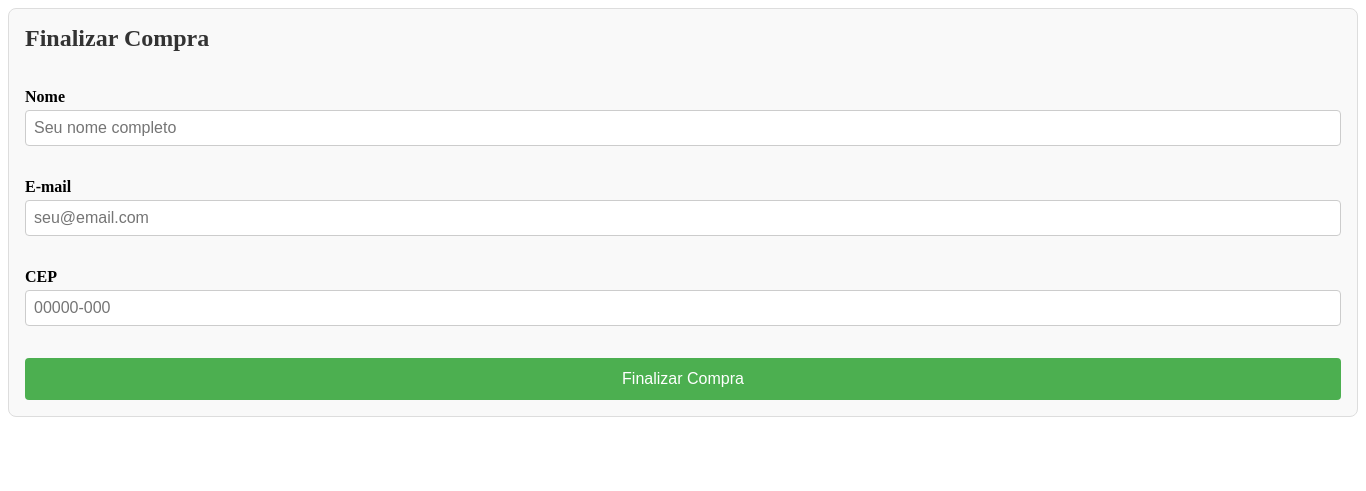
Test case: CheckoutForm › exibe erro quando o e-mail é inválido
Type "nao-é-email" into the field labelled "E-mail". click: (683, 218)
box: 25,200 -> 1341,236
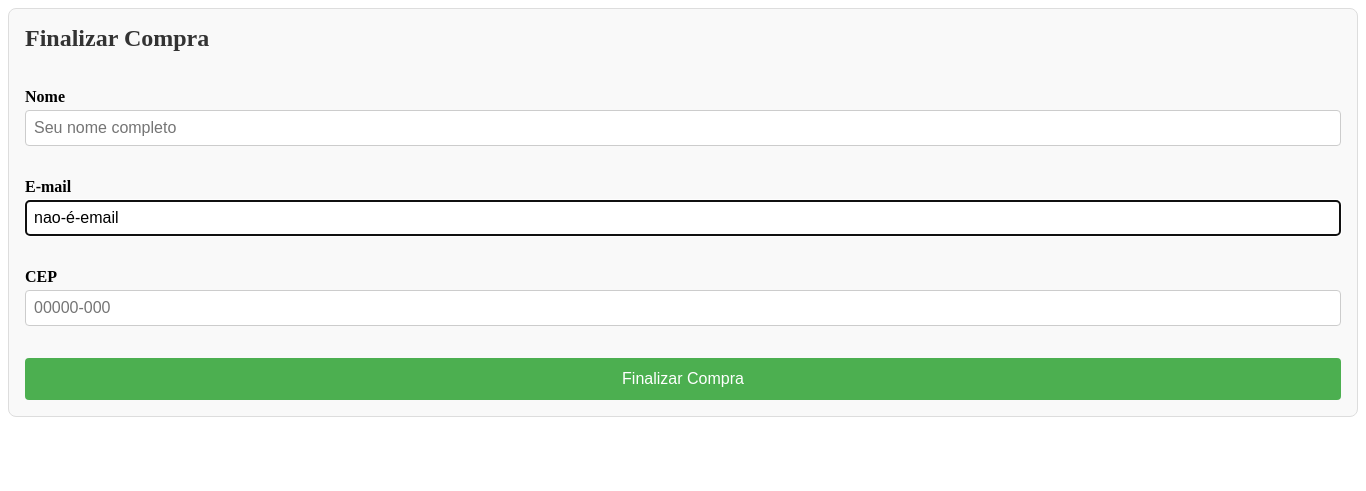
Click the button "Finalizar Compra". click: (683, 379)
box: 25,358 -> 1341,400
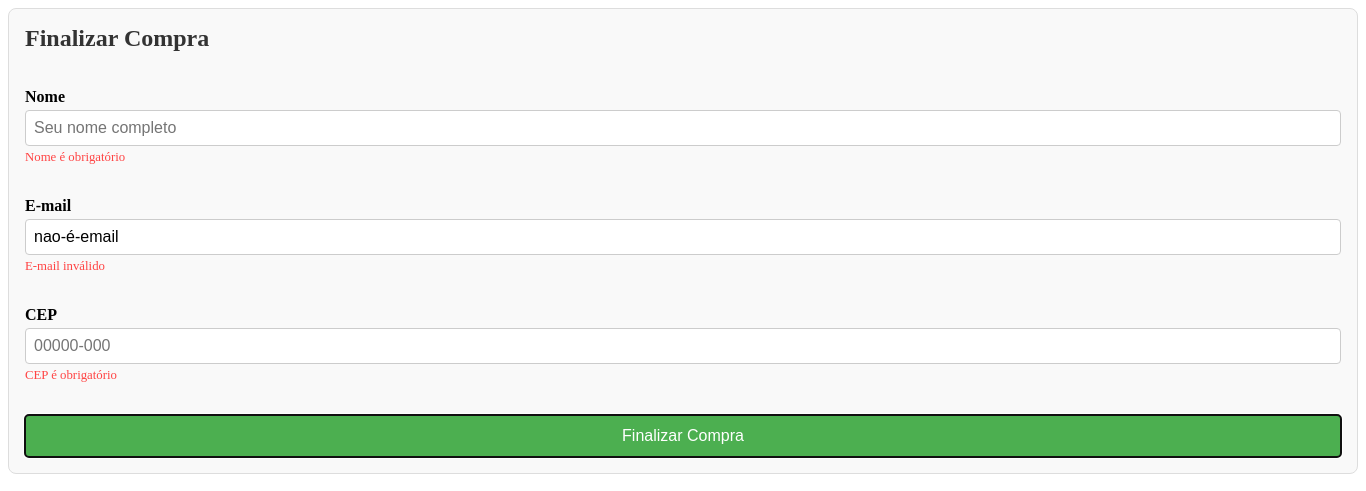
Result: the text "E-mail inválido" is shown at 25,259 -> 105,273
